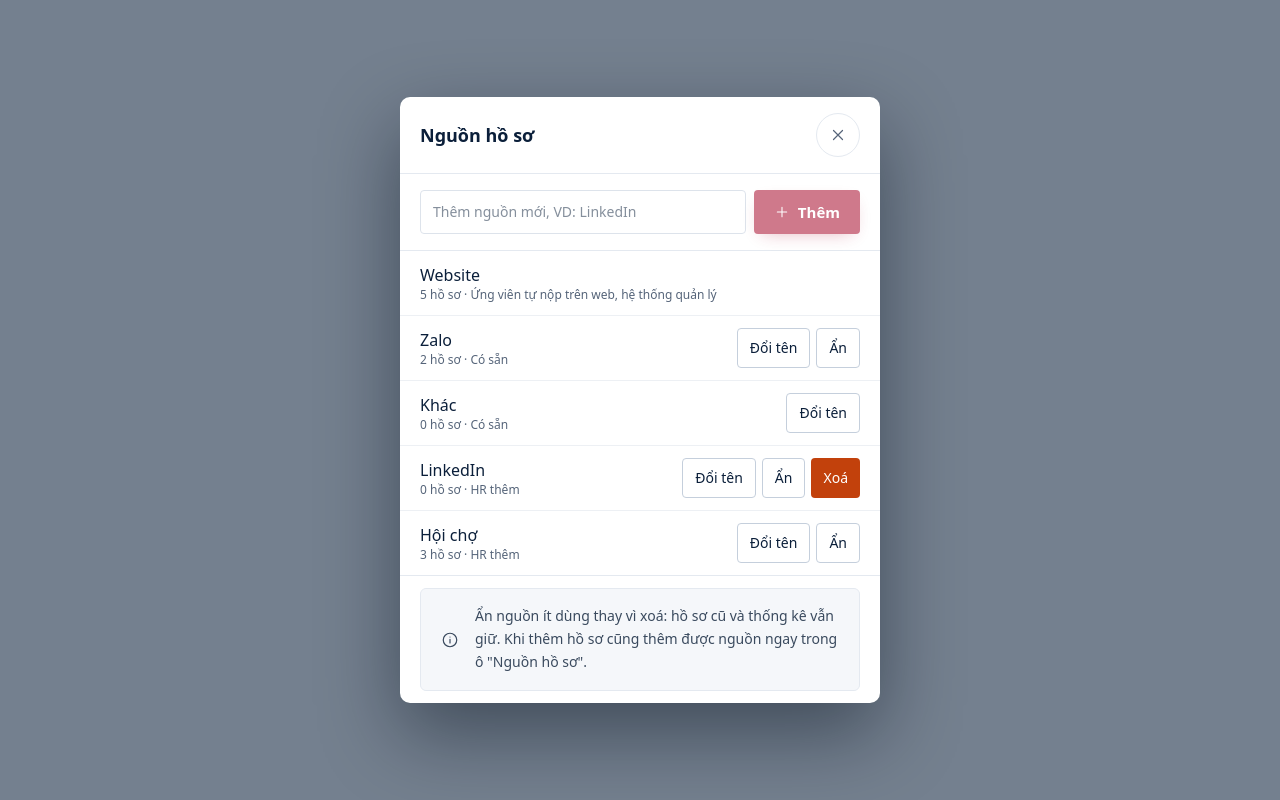
manage sources › should hide a source and show its count
Click the button "Ẩn" in the row of "Zalo": (838,348) [816,328,860,368]
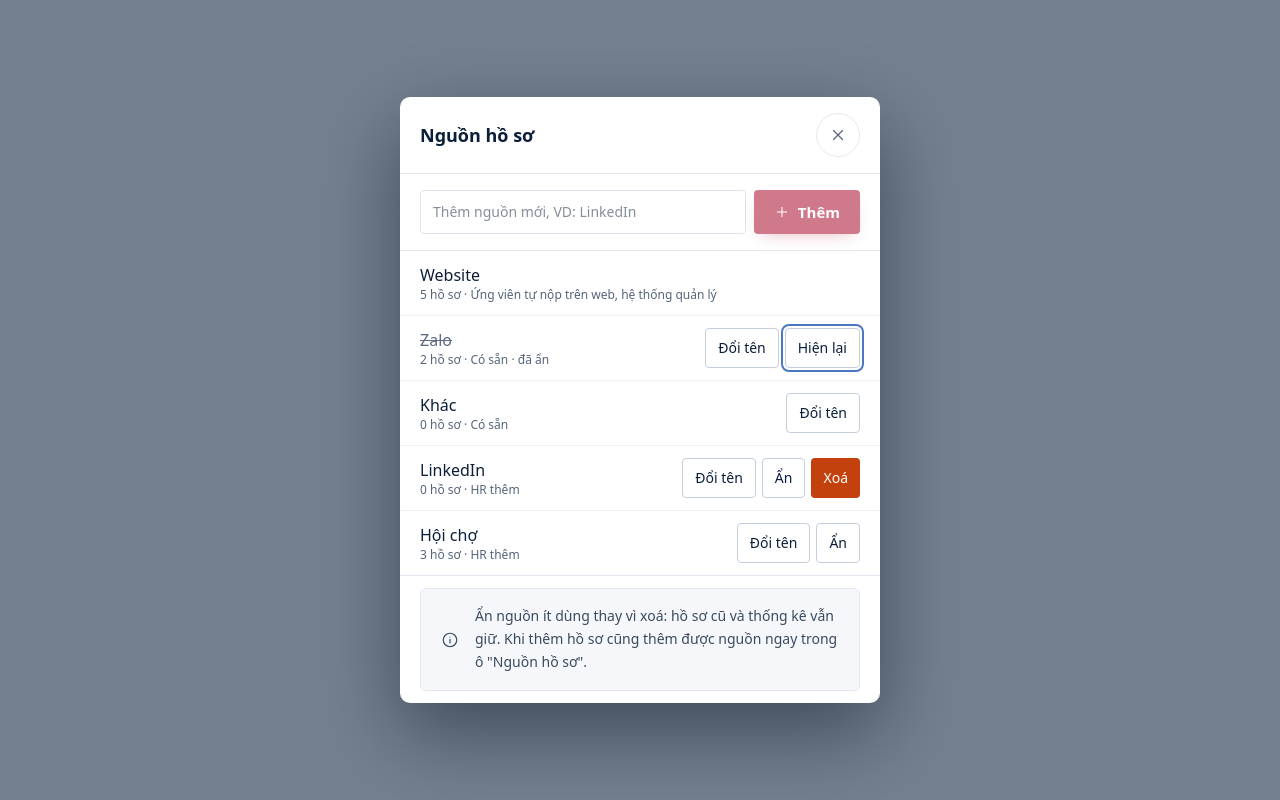
Check: the text "2 hồ sơ · Có sẵn · đã ẩn" is shown, box [420,351,549,368]
